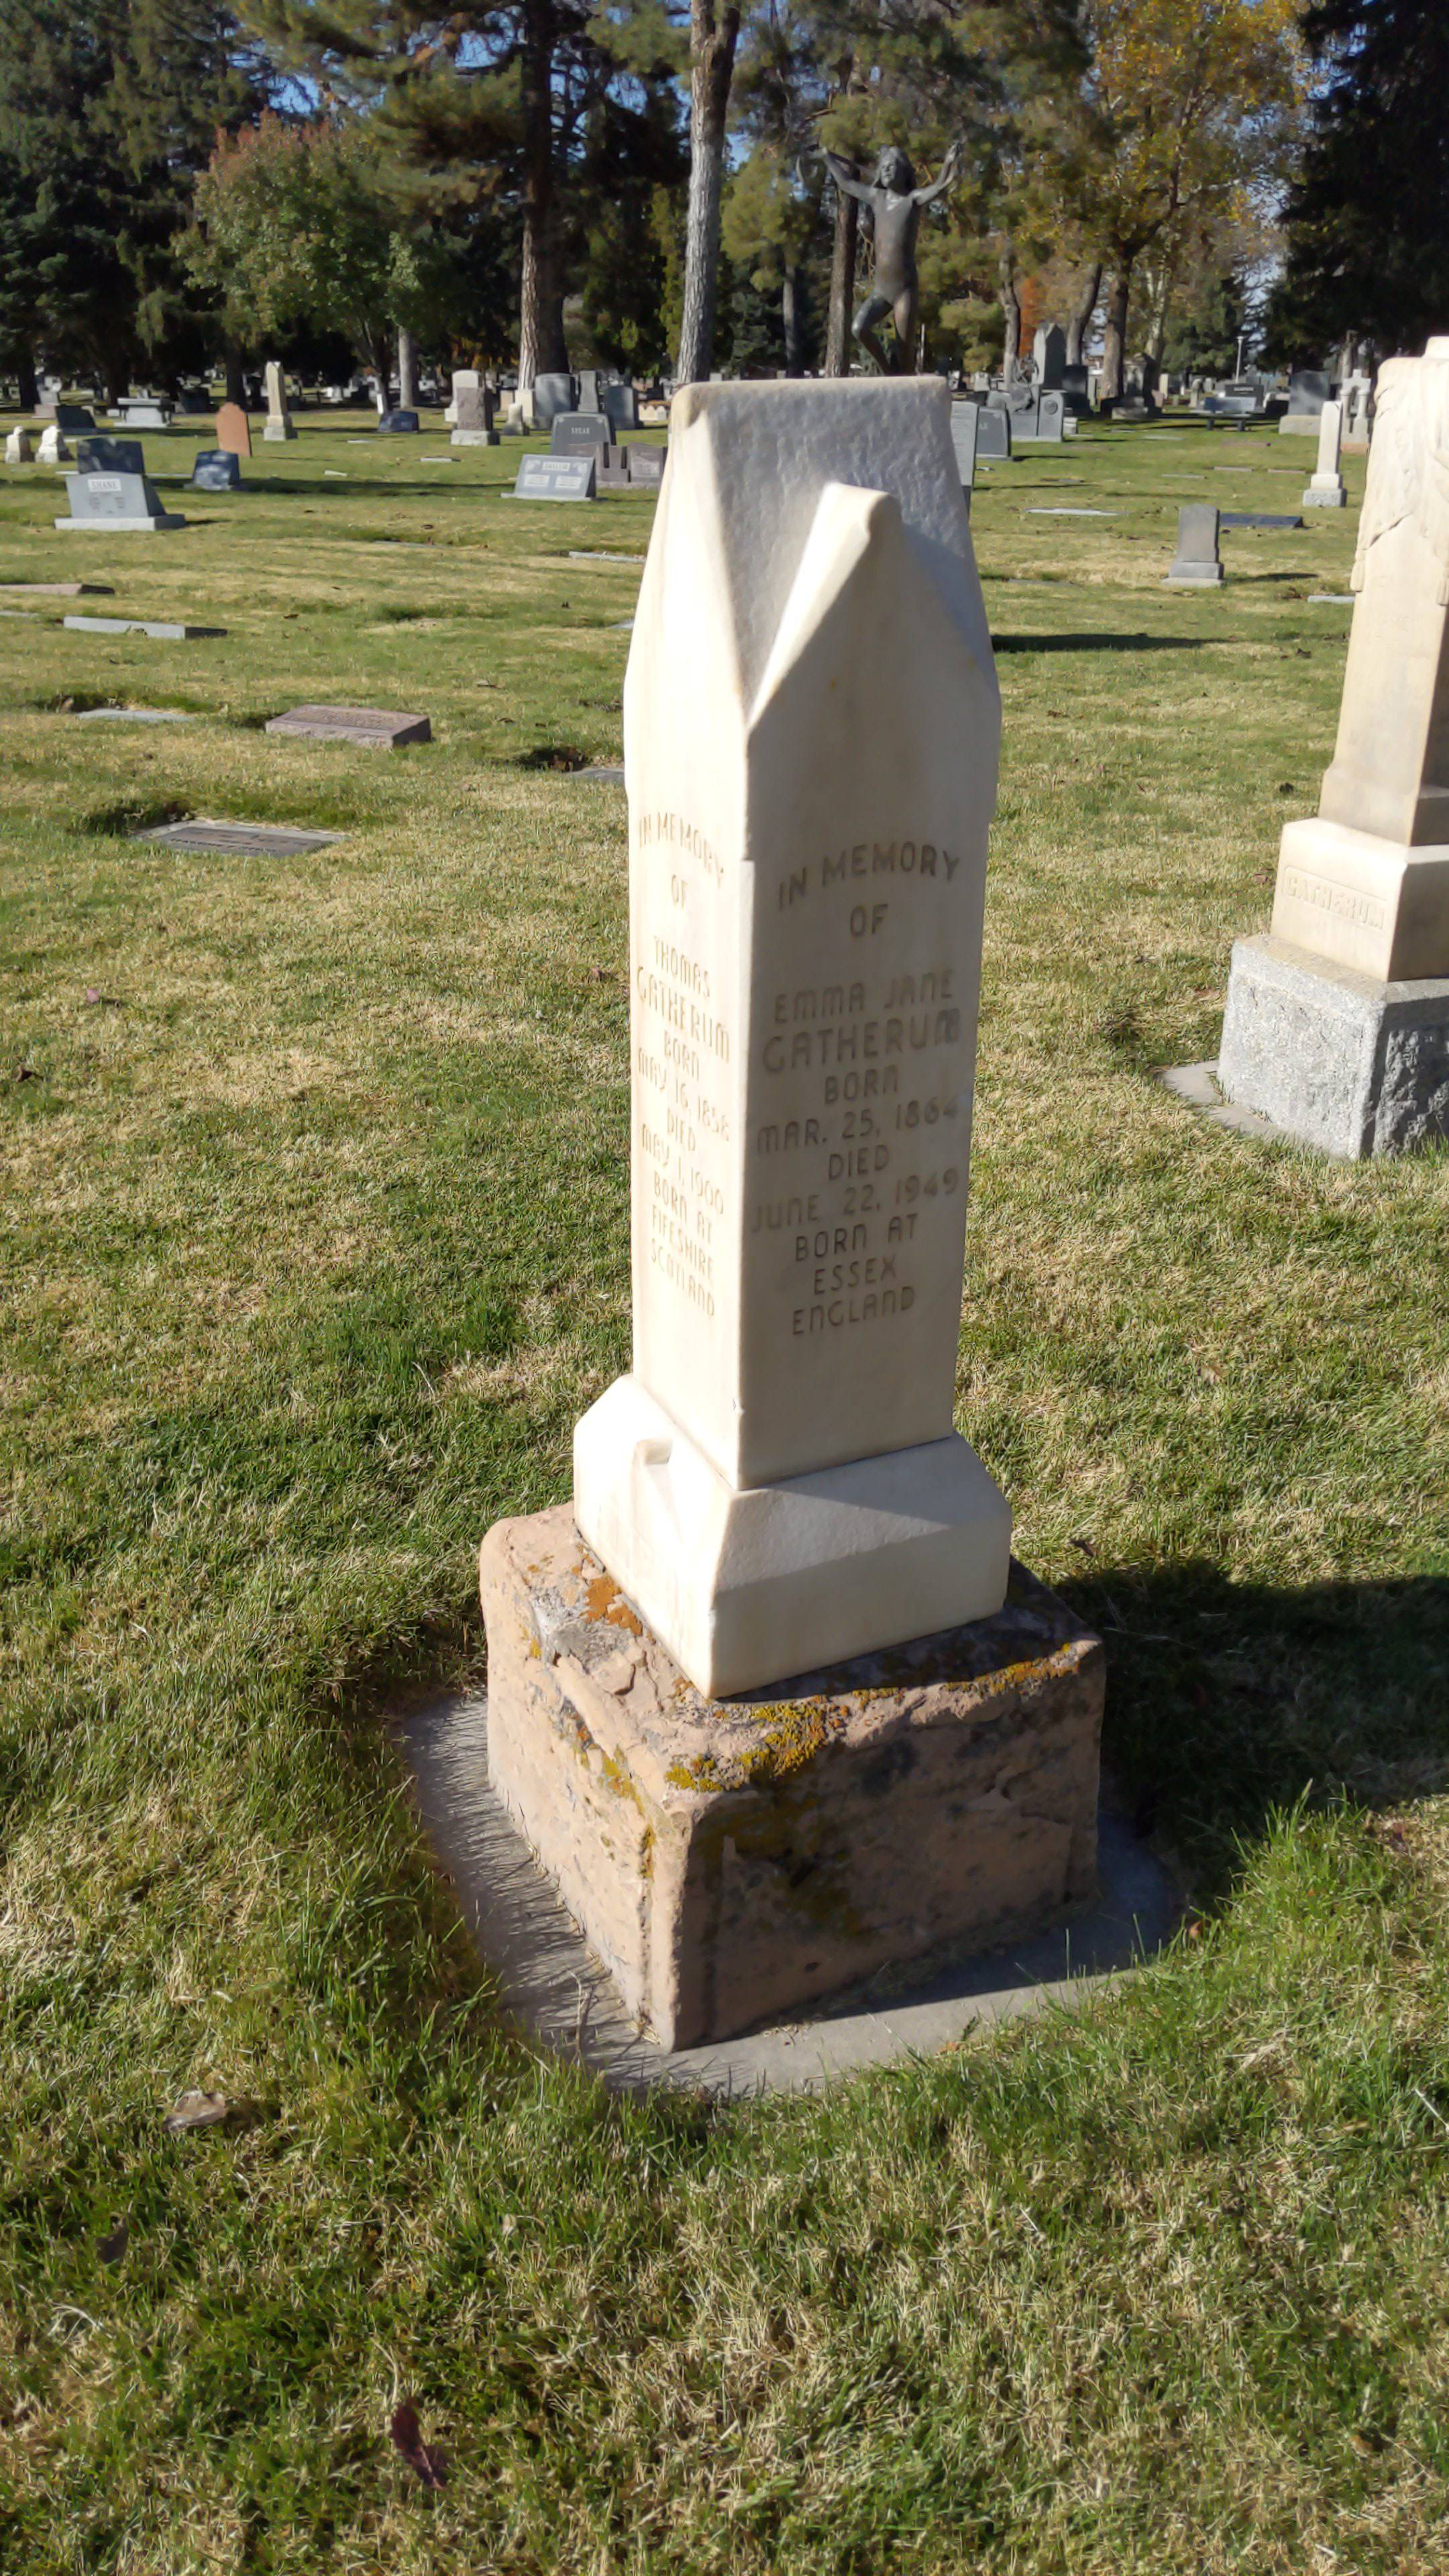obelisk: (568, 373, 1007, 1686)
